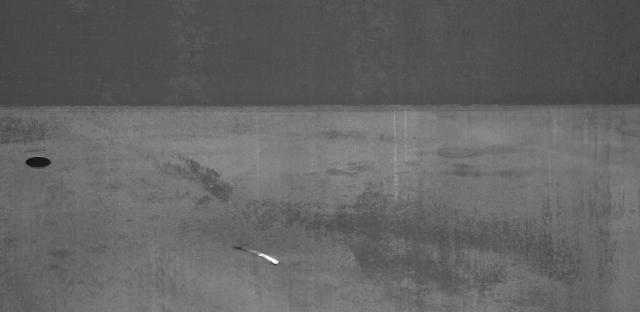punching_hole: (18, 153, 54, 170)
welding_line: (0, 94, 638, 116)
